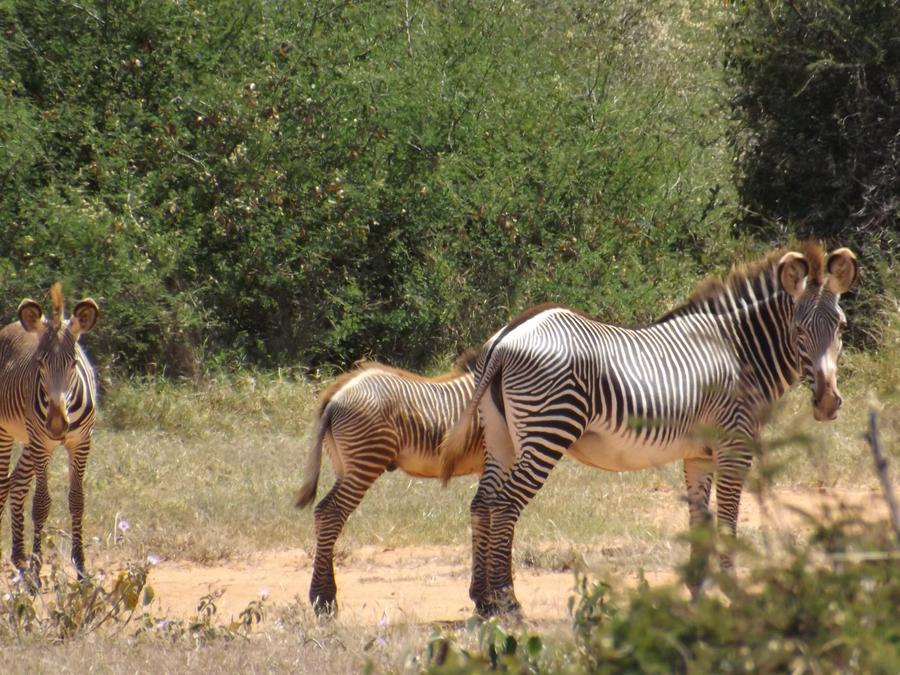zebra_grevys: (300, 348, 481, 474)
